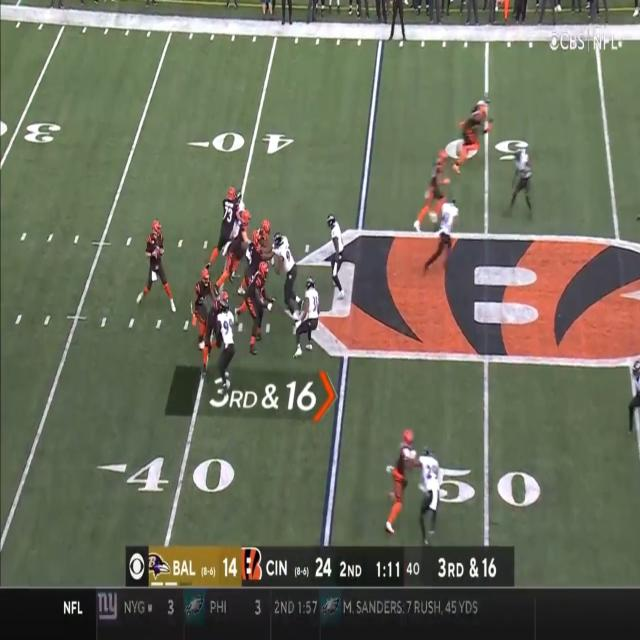Ball: (154, 246, 161, 262)
